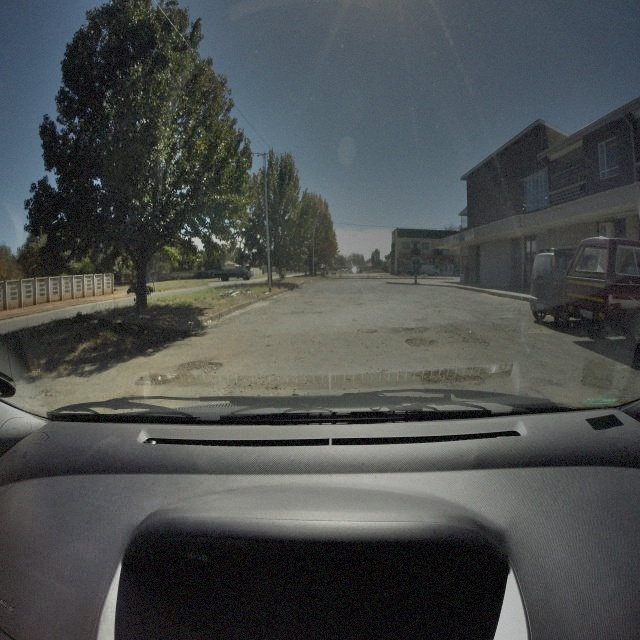pothole: (420, 368, 485, 388), (176, 356, 224, 378), (137, 371, 174, 388), (394, 324, 430, 336), (404, 337, 437, 350), (357, 326, 377, 335)
